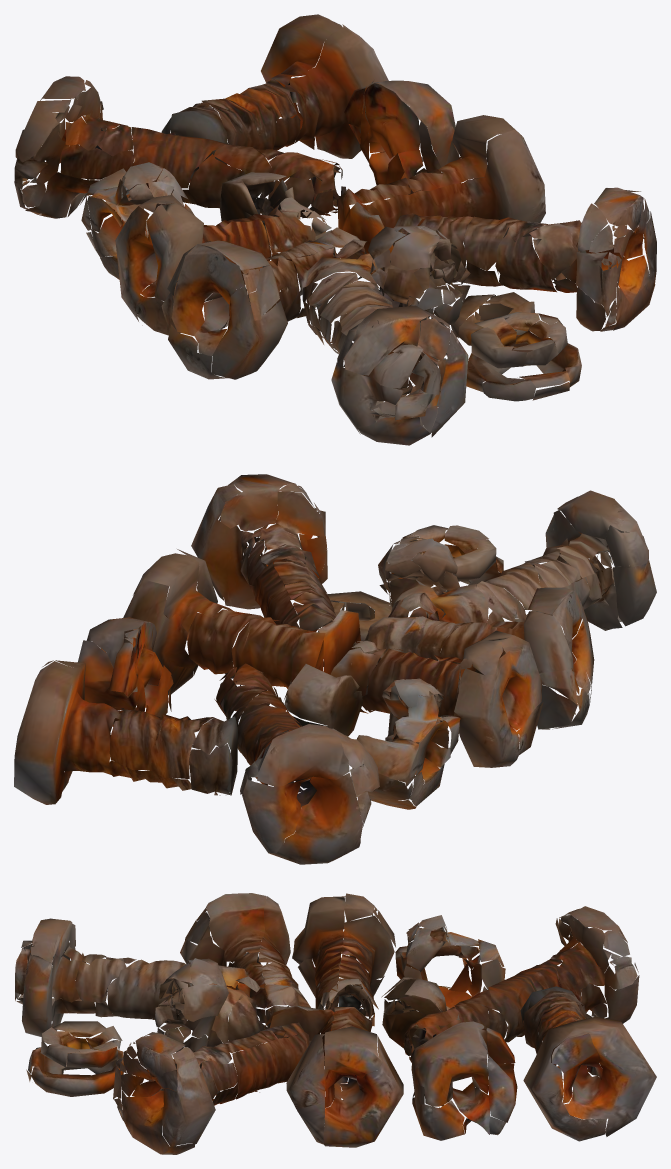
File: bolt_handful.glb
The picture shows the model from 3 angles, top to bottom: view 1: azimuth 30°, elevation 25°; view 2: azimuth 150°, elevation 25°; view 3: azimuth 270°, elevation 25°; orthographic projection. The views are drawn at different scales.
Visible parts, largest first — view 1: tripo_node_64395bcd-b5f5-4928-a2c3-180d6be2fe12; view 2: tripo_node_64395bcd-b5f5-4928-a2c3-180d6be2fe12; view 3: tripo_node_64395bcd-b5f5-4928-a2c3-180d6be2fe12.
Boxes of the visible parts, x1,y1,x2,y2 form: tripo_node_64395bcd-b5f5-4928-a2c3-180d6be2fe12: (14, 14, 656, 445); tripo_node_64395bcd-b5f5-4928-a2c3-180d6be2fe12: (14, 474, 656, 864); tripo_node_64395bcd-b5f5-4928-a2c3-180d6be2fe12: (15, 893, 656, 1154).
Bounding box in the file's own units: 0.6836 × 0.205 × 1.
Materials: 1 (1 with a texture image).
